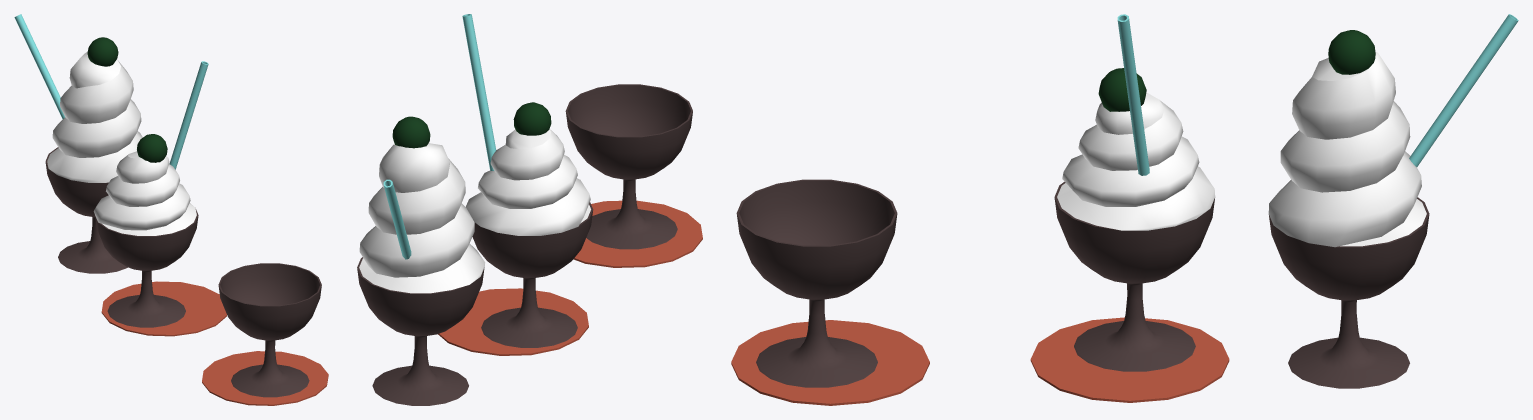
File: FI_026_ice_creams_and_cup.glb
3 views of the same model, side by side, from view 1: azimuth 30°, elevation 25°; view 2: azimuth 150°, elevation 25°; view 3: azimuth 270°, elevation 25° (orthographic). The views are drawn at different scales.
Visible parts, largest first — view 1: ice_creams_and_cup; view 2: ice_creams_and_cup; view 3: ice_creams_and_cup.
Boxes of the visible parts, x1,y1,x2,y2 form: ice_creams_and_cup: [14, 14, 328, 405]; ice_creams_and_cup: [357, 14, 702, 405]; ice_creams_and_cup: [731, 14, 1518, 405].
Bounding box in the file's own units: 0.4242 × 0.8019 × 1.53.
